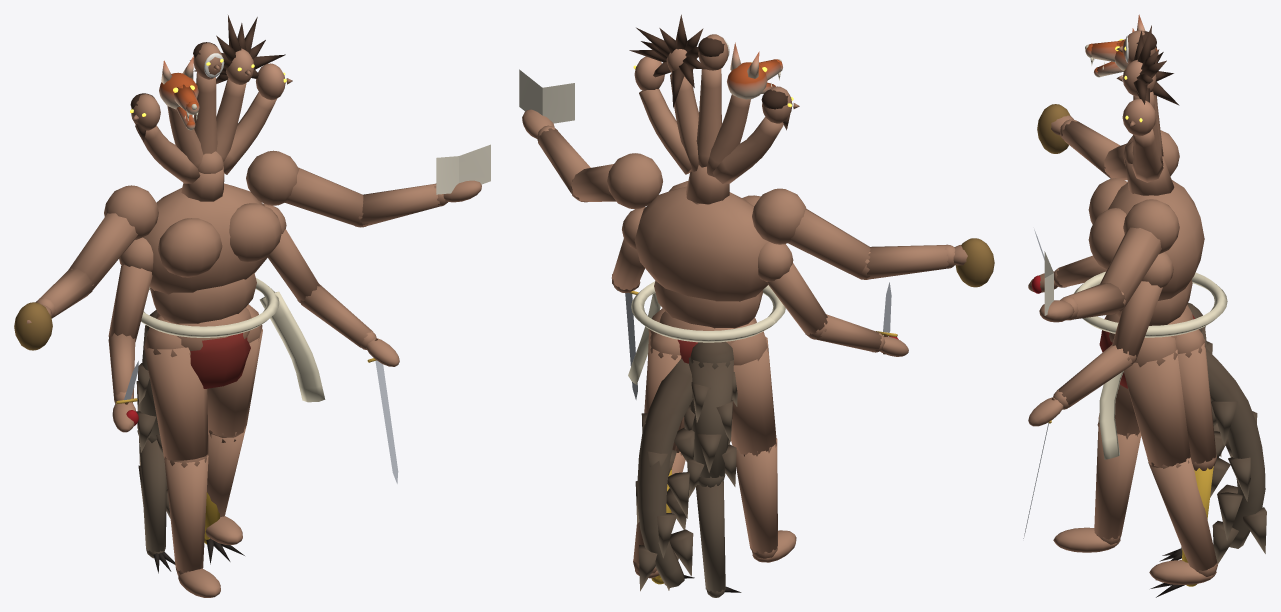
Rendered from septiceps.glb.
3 renders of one model, left to right at view 1: azimuth 30°, elevation 25°; view 2: azimuth 150°, elevation 25°; view 3: azimuth 270°, elevation 25°, orthographic. The views are drawn at different scales.
Parts seen in each view (by area): view 1: torso, head, thigh_R, upperarm_L, leg_wolf, upperarm_R, shin_R, pelvis, upperarm2_R, thigh_L, hand_L, forearm_L (+11 smaller); view 2: torso, head, tail, leg_wolf, upperarm_R, thigh_R, shin_R, upperarm_L, upperarm2_R, forearm_R, hand_L, leg_bird (+6 smaller); view 3: torso, tail, head, thigh_L, leg_bird, upperarm_L, shin_L, shin_R, upperarm2_L, forearm2_L, forearm_L, forearm_R (+11 smaller).
Part boxes in pixels (x1=…): torso: x1=141, y1=151, x2=325, y2=402; head: x1=130, y1=15, x2=292, y2=183; thigh_R: x1=144, y1=315, x2=208, y2=462; upperarm_L: x1=246, y1=150, x2=366, y2=227; leg_wolf: x1=136, y1=310, x2=175, y2=573; upperarm_R: x1=68, y1=185, x2=158, y2=289; shin_R: x1=164, y1=454, x2=208, y2=575; pelvis: x1=156, y1=307, x2=251, y2=388; upperarm2_R: x1=108, y1=237, x2=153, y2=341; thigh_L: x1=207, y1=304, x2=262, y2=436; hand_L: x1=436, y1=144, x2=490, y2=202; forearm_L: x1=355, y1=183, x2=447, y2=227; torso: x1=628, y1=165, x2=785, y2=384; head: x1=629, y1=14, x2=799, y2=183; tail: x1=635, y1=358, x2=694, y2=591; leg_wolf: x1=684, y1=341, x2=741, y2=597; upperarm_R: x1=752, y1=188, x2=870, y2=277; thigh_R: x1=731, y1=320, x2=776, y2=455; shin_R: x1=736, y1=438, x2=777, y2=558; upperarm_L: x1=571, y1=153, x2=662, y2=209; upperarm2_R: x1=758, y1=242, x2=827, y2=334; forearm_R: x1=857, y1=244, x2=955, y2=279; hand_L: x1=519, y1=69, x2=574, y2=138; leg_bird: x1=644, y1=332, x2=694, y2=584; torso: x1=1074, y1=141, x2=1227, y2=459; tail: x1=1205, y1=348, x2=1266, y2=564; head: x1=1085, y1=14, x2=1179, y2=182; thigh_L: x1=1124, y1=336, x2=1190, y2=467; leg_bird: x1=1150, y1=329, x2=1216, y2=597; upperarm_L: x1=1100, y1=199, x2=1179, y2=305; shin_L: x1=1147, y1=457, x2=1217, y2=576; shin_R: x1=1094, y1=420, x2=1140, y2=544; upperarm2_L: x1=1112, y1=252, x2=1173, y2=357; forearm2_L: x1=1053, y1=344, x2=1136, y2=409; forearm_L: x1=1060, y1=283, x2=1125, y2=320; forearm_R: x1=1060, y1=119, x2=1120, y2=178.
Size of the model in its own units: 6.01 by 6.71 by 2.63.
